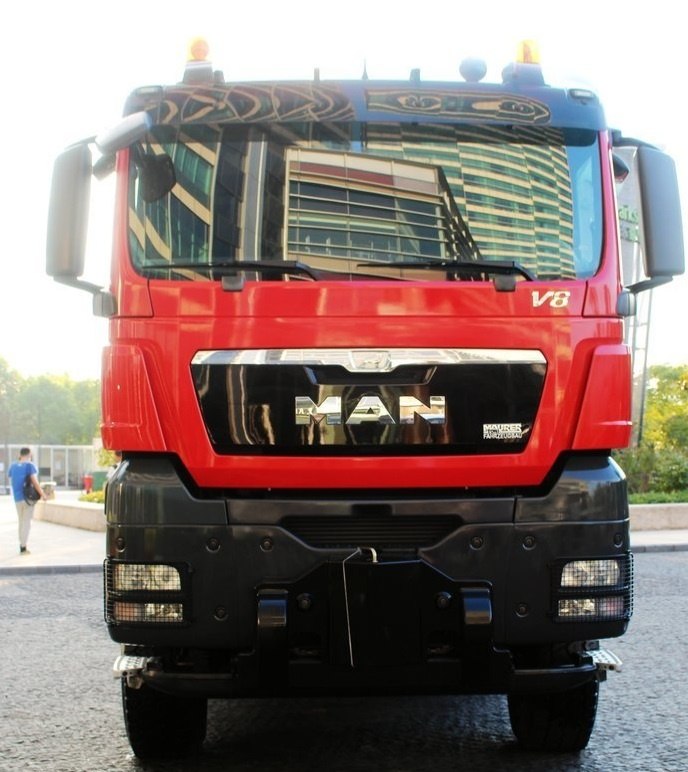heavy truck: (49, 44, 671, 744)
